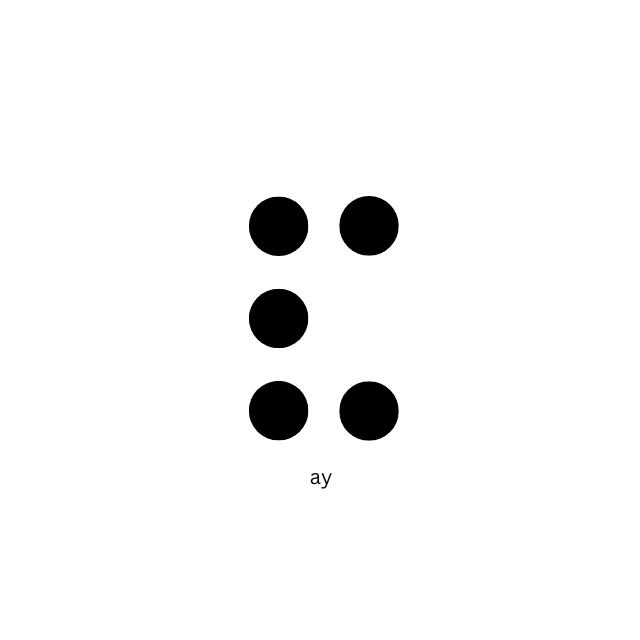one_cell_non_alphabet_ay: (247, 194, 401, 444)
